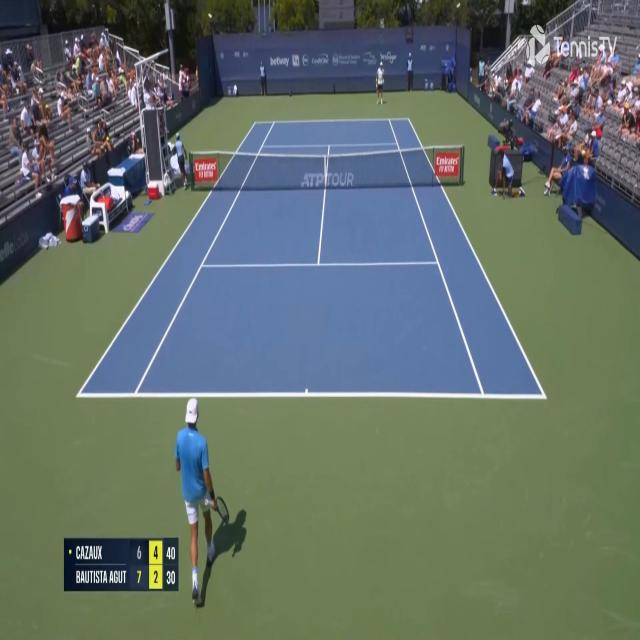tennis-player: (173, 392, 250, 606), (374, 60, 386, 105)
